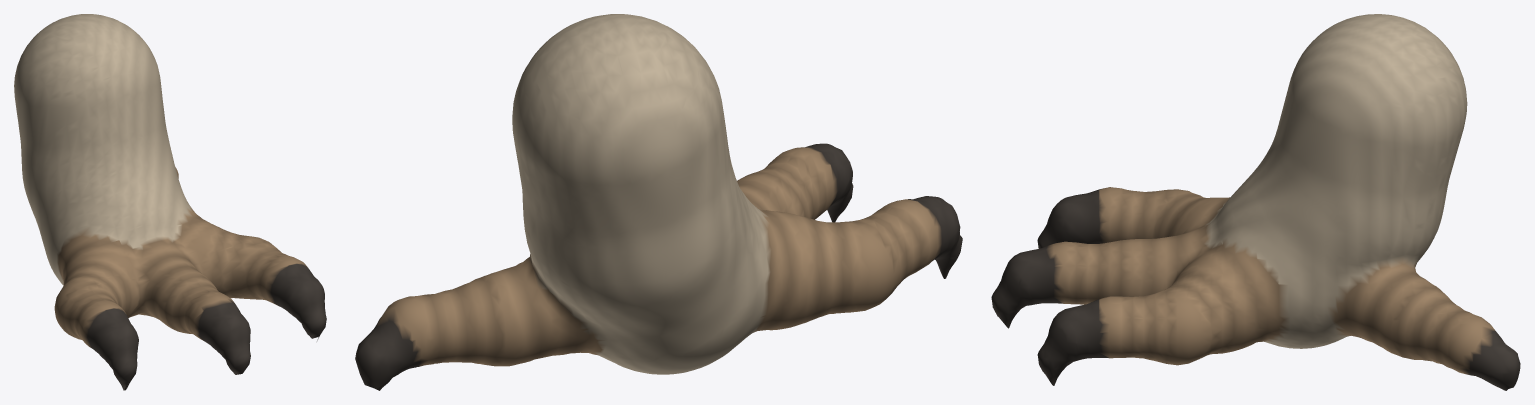
Rendered from foot-component-NO_RELEASE.glb.
3 renders of one model, left to right at view 1: azimuth 30°, elevation 25°; view 2: azimuth 150°, elevation 25°; view 3: azimuth 270°, elevation 25°, orthographic. The views are drawn at different scales.
Size of the model in its own units: 0.3367 by 0.3429 by 0.5168.
